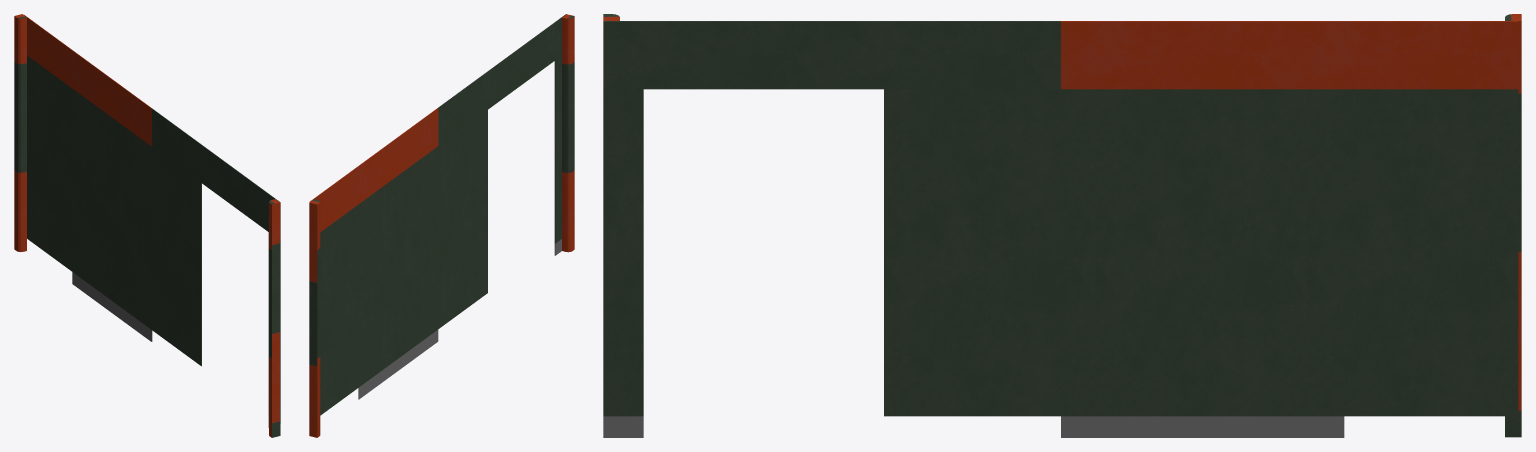
The model's file is kitchenwall_1.fbx.
The picture shows the model from 3 angles, left to right: view 1: azimuth 30°, elevation 25°; view 2: azimuth 150°, elevation 25°; view 3: azimuth 270°, elevation 25°; orthographic projection. The views are drawn at different scales.
Visible parts, largest first — view 1: polySurface223; view 2: polySurface223; view 3: polySurface223.
Boxes of the visible parts, x1,y1,x2,y2 form: polySurface223: [14, 14, 280, 437]; polySurface223: [309, 14, 574, 437]; polySurface223: [603, 14, 1521, 437].
Size of the model in its own units: 0.1005 by 2.58 by 5.15.
